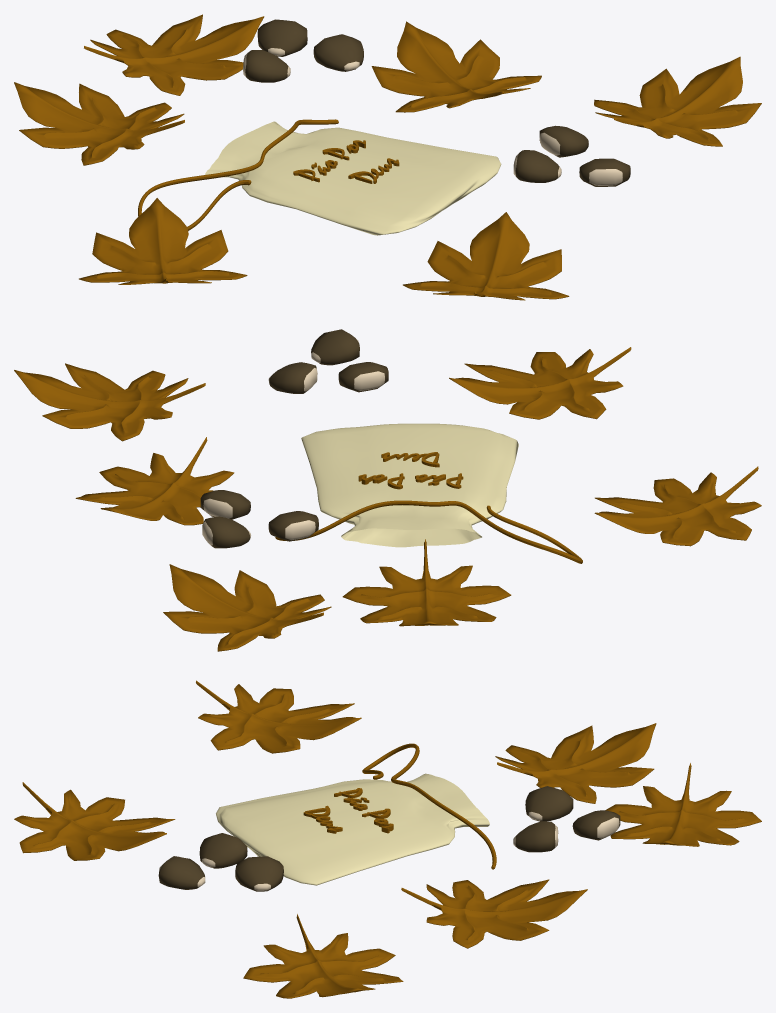
File: pao-asset.glb
3 renders of one model, top to bottom at view 1: azimuth 30°, elevation 25°; view 2: azimuth 150°, elevation 25°; view 3: azimuth 270°, elevation 25°, orthographic. The views are drawn at different scales.
Visible parts, largest first — view 1: Cylinder, BezierCurve.002, BezierCurve.004, BezierCurve, BezierCurve.003, BezierCurve.001, BezierCurve.005, NurbsCurve, Cube.002, Cube, Text, Cube.005 (+3 smaller); view 2: Cylinder, BezierCurve.005, BezierCurve.003, BezierCurve.004, BezierCurve.002, BezierCurve.001, BezierCurve, NurbsCurve, Cube.004, Text, Cube.002, Cube.003 (+3 smaller); view 3: Cylinder, BezierCurve.001, BezierCurve, BezierCurve.002, BezierCurve.004, BezierCurve.003, BezierCurve.005, Cube.003, Cube.001, Cube.005, NurbsCurve, Text (+3 smaller).
Boxes of the visible parts, x1,y1,x2,y2 form: Cylinder: [205, 121, 501, 235]; BezierCurve.002: [79, 198, 247, 284]; BezierCurve.004: [403, 212, 569, 300]; BezierCurve: [371, 21, 541, 112]; BezierCurve.003: [594, 56, 761, 146]; BezierCurve.001: [14, 82, 184, 165]; BezierCurve.005: [84, 14, 264, 95]; NurbsCurve: [138, 119, 338, 230]; Cube.002: [257, 19, 307, 56]; Cube: [313, 34, 363, 71]; Text: [293, 140, 399, 183]; Cube.005: [513, 150, 561, 182]; Cylinder: [301, 423, 518, 547]; BezierCurve.005: [163, 564, 331, 651]; BezierCurve.003: [14, 363, 205, 441]; BezierCurve.004: [449, 347, 631, 419]; BezierCurve.002: [594, 466, 761, 546]; BezierCurve.001: [342, 539, 511, 626]; BezierCurve: [75, 437, 234, 525]; NurbsCurve: [275, 500, 582, 563]; Cube.004: [311, 329, 359, 365]; Text: [358, 452, 463, 489]; Cube.002: [202, 516, 250, 548]; Cube.003: [268, 362, 317, 393]; Cylinder: [216, 773, 489, 885]; BezierCurve.001: [495, 723, 656, 803]; BezierCurve: [401, 879, 587, 948]; BezierCurve.002: [196, 680, 361, 753]; BezierCurve.004: [14, 782, 175, 860]; BezierCurve.003: [243, 914, 403, 998]; BezierCurve.005: [605, 763, 761, 846]; Cube.003: [235, 856, 283, 891]; Cube.001: [525, 786, 573, 821]; Cube.005: [199, 833, 247, 868]; NurbsCurve: [362, 743, 496, 869]; Text: [303, 788, 393, 833].
Bounding box in the file's own units: 31.03 × 2.89 × 30.16.
